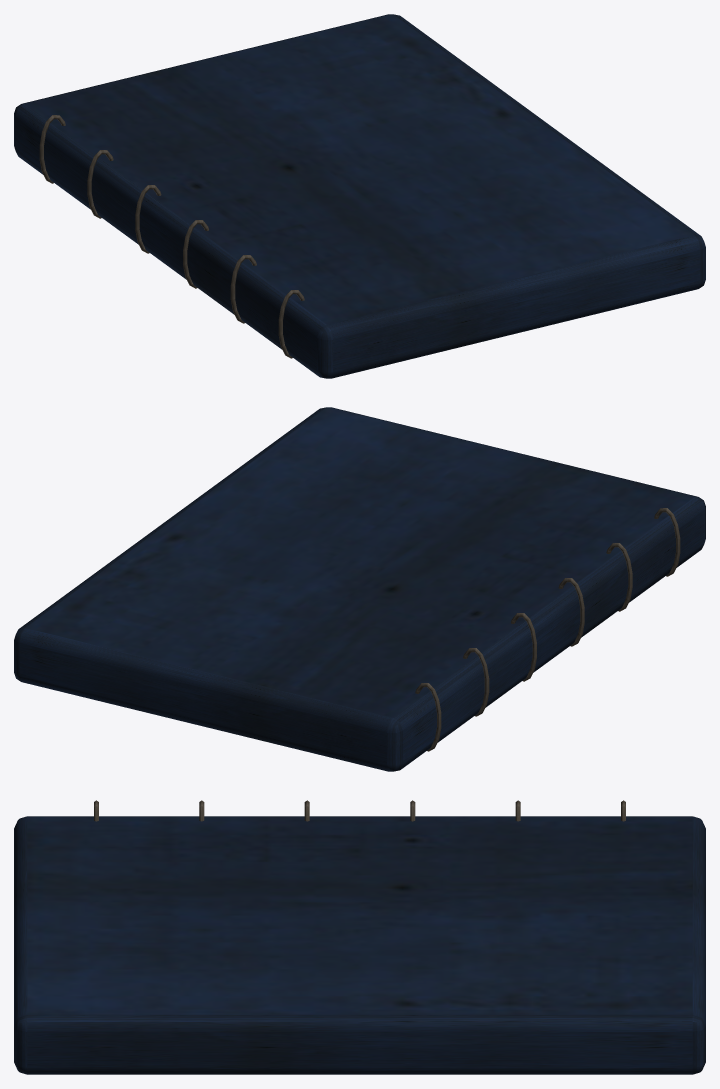
Rendered from so_tay.glb.
3 renders of one model, top to bottom at view 1: azimuth 30°, elevation 25°; view 2: azimuth 150°, elevation 25°; view 3: azimuth 270°, elevation 25°, orthographic. The views are drawn at different scales.
Parts seen in each view (by area): view 1: so_tay.001; view 2: so_tay.001; view 3: so_tay.001.
Boxes of the visible parts, <box> form: so_tay.001: <box>14,14,705,378</box>; so_tay.001: <box>14,407,705,771</box>; so_tay.001: <box>14,800,705,1074</box>.
Size of the model in its own units: 0.1527 by 0.0254 by 0.21.
Materials: 1 (1 with a texture image).
